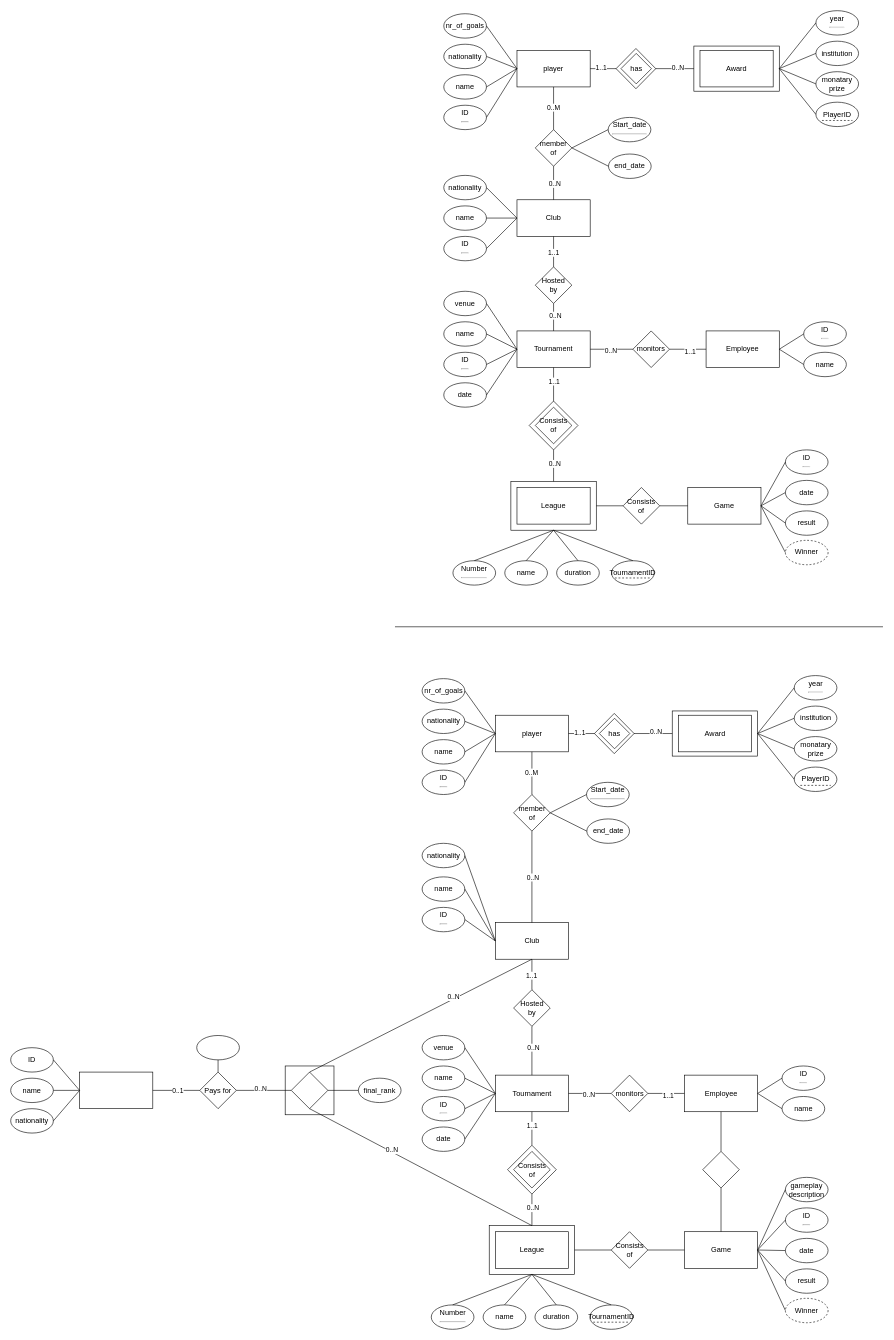
The diagram is 894 pixels wide and 1340 high, and some of its shapes have lost their labels. The centre of each missing label's shape, as x and y in pixels:
"fee amount" goes at pixel 217 1047.
"participates" goes at pixel 309 1090.
"refereed by" goes at pixel 720 1169.
"Sponsor" goes at pixel 116 1090.
